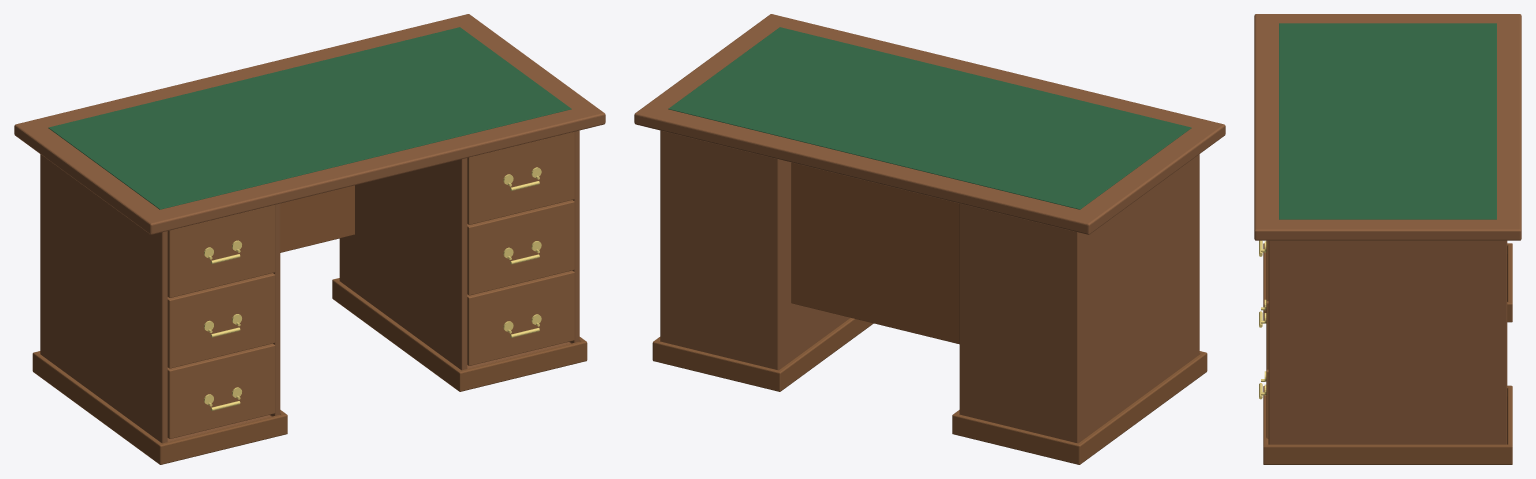
3 renders of one model, left to right at view 1: azimuth 30°, elevation 25°; view 2: azimuth 150°, elevation 25°; view 3: azimuth 270°, elevation 25°, orthographic. The views are drawn at different scales.
Visible parts, largest first — view 1: LeatherInlay, PedestalCabinet_1, DeskTop, PedestalCabinet_0, DrawerFront_5, DrawerFront_4, DrawerFront_1, DrawerFront_2, DrawerFront_3, DrawerFront_0, PlinthBase_0, PlinthBase_1 (+1 smaller); view 2: PedestalCabinet_1, LeatherInlay, PedestalCabinet_0, ModestyPanel, DeskTop, PlinthBase_1, PlinthBase_0; view 3: PedestalCabinet_0, LeatherInlay, DeskTop, PlinthBase_0, PlinthBase_1.
Boxes of the visible parts, box(x1,y1,x2,y2) form: LeatherInlay: box(48, 27, 571, 209); PedestalCabinet_1: box(40, 154, 280, 443); DeskTop: box(14, 14, 605, 234); PedestalCabinet_0: box(339, 130, 579, 370); DrawerFront_5: box(167, 343, 275, 438); DrawerFront_4: box(167, 273, 275, 368); DrawerFront_1: box(467, 200, 574, 295); DrawerFront_2: box(467, 270, 574, 365); DrawerFront_3: box(167, 205, 275, 297); DrawerFront_0: box(467, 132, 574, 224); PlinthBase_0: box(332, 278, 587, 391); PlinthBase_1: box(32, 351, 287, 464); PedestalCabinet_1: box(959, 154, 1199, 443); LeatherInlay: box(668, 27, 1191, 209); PedestalCabinet_0: box(660, 130, 849, 370); ModestyPanel: box(791, 162, 959, 344); DeskTop: box(634, 14, 1225, 234); PlinthBase_1: box(952, 351, 1207, 464); PlinthBase_0: box(652, 317, 873, 391); PedestalCabinet_0: box(1268, 240, 1507, 444); LeatherInlay: box(1279, 23, 1496, 219); DeskTop: box(1254, 14, 1521, 240); PlinthBase_0: box(1263, 385, 1512, 464); PlinthBase_1: box(1263, 243, 1512, 322).
Bounding box in the file's own units: 1.46 × 0.7615 × 0.76.
